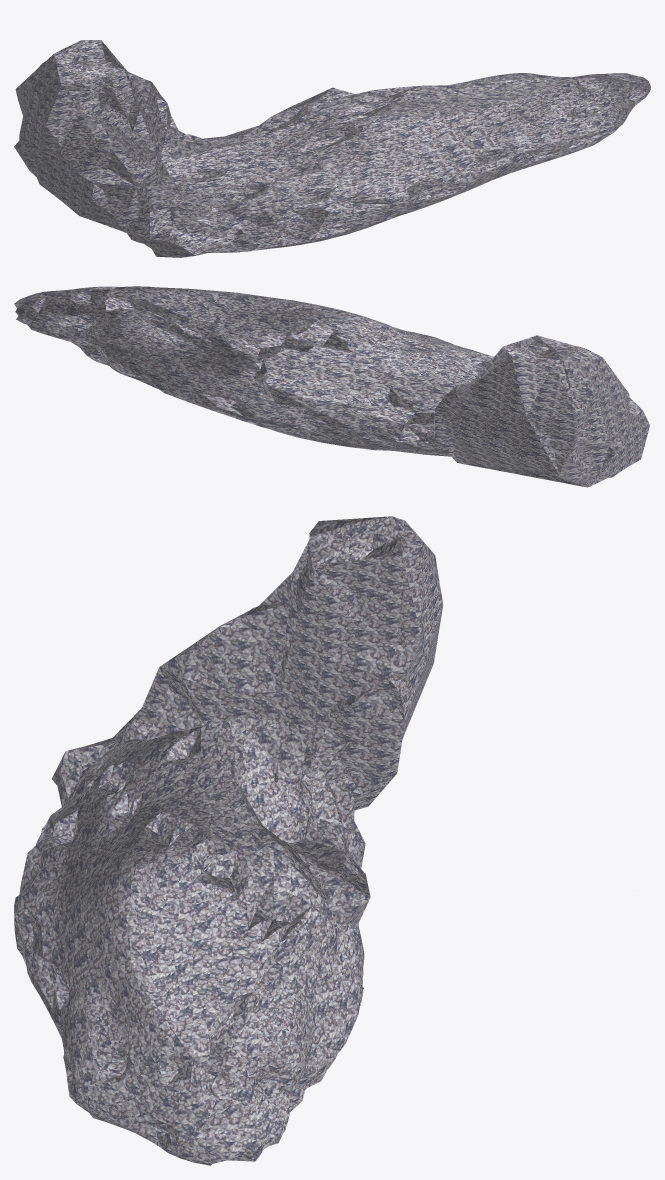
File: BacuCob.glb
3 views of the same model, one above another, from view 1: azimuth 30°, elevation 25°; view 2: azimuth 150°, elevation 25°; view 3: azimuth 270°, elevation 25° (orthographic). The views are drawn at different scales.
Parts seen in each view (by area): view 1: Group1; view 2: Group1; view 3: Group1.
Part boxes in pixels (bbox=[...]): Group1: bbox=[14, 14, 650, 257]; Group1: bbox=[14, 286, 649, 487]; Group1: bbox=[14, 516, 648, 1165].
Size of the model in its own units: 2.25 by 0.6155 by 1.25.
Materials: 20 (19 with a texture image).
